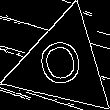O_S: (35, 34, 90, 95)
